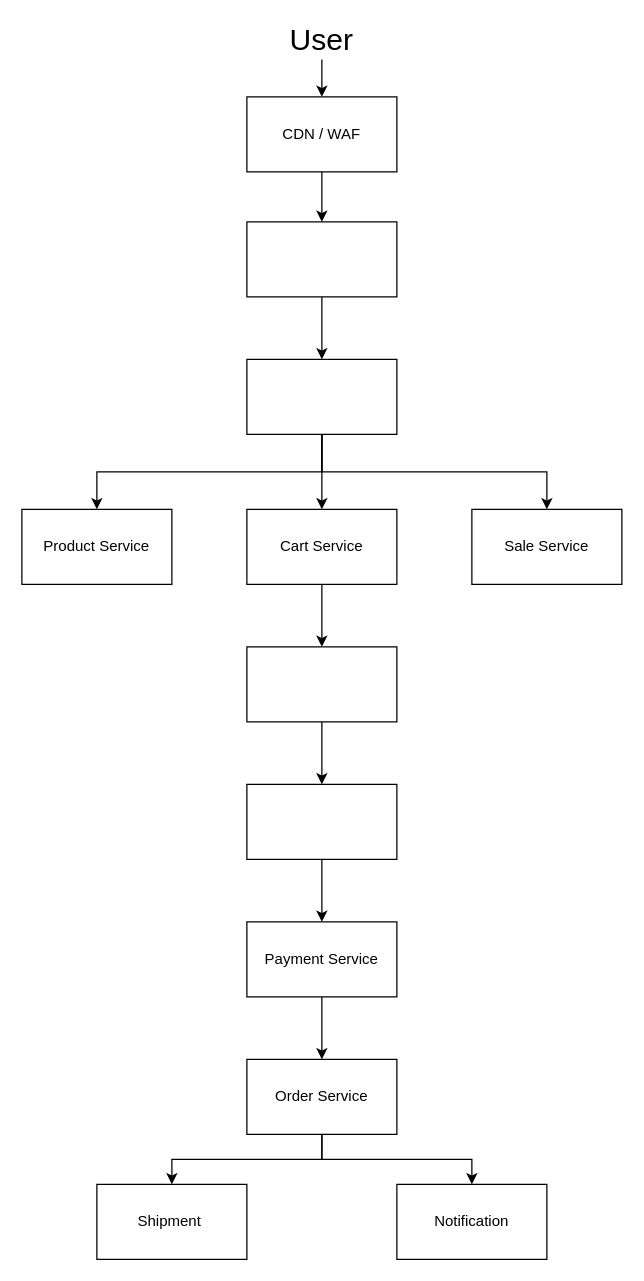
This 644x1281 diagram has some shape labels left out. Here are the shapes that lost their labels. From the top down, the box of each, then its label:
(246, 221, 397, 297): Load Balancer
(246, 358, 397, 434): API Gateway
(246, 646, 397, 722): Inventory / Reservation
(246, 783, 397, 859): Checkout Service
